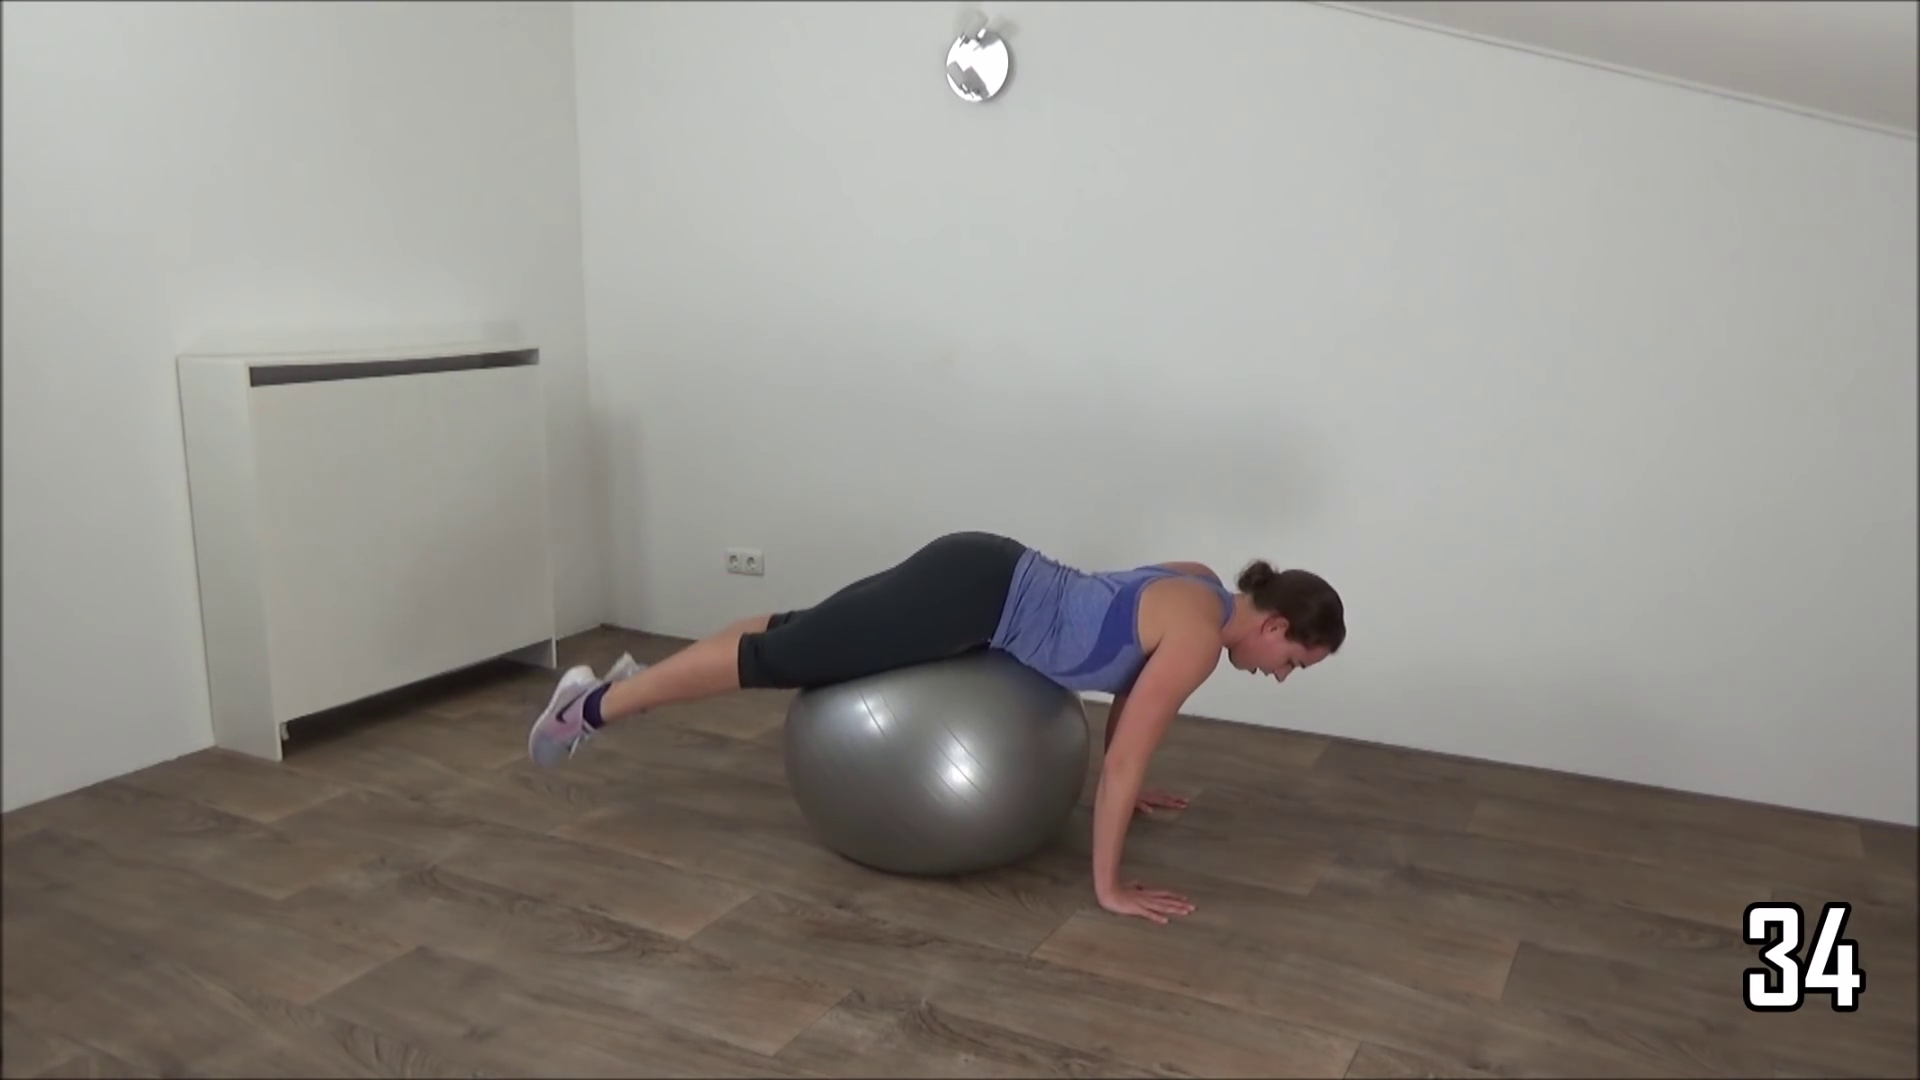yogaball: (775, 654, 1106, 887)
